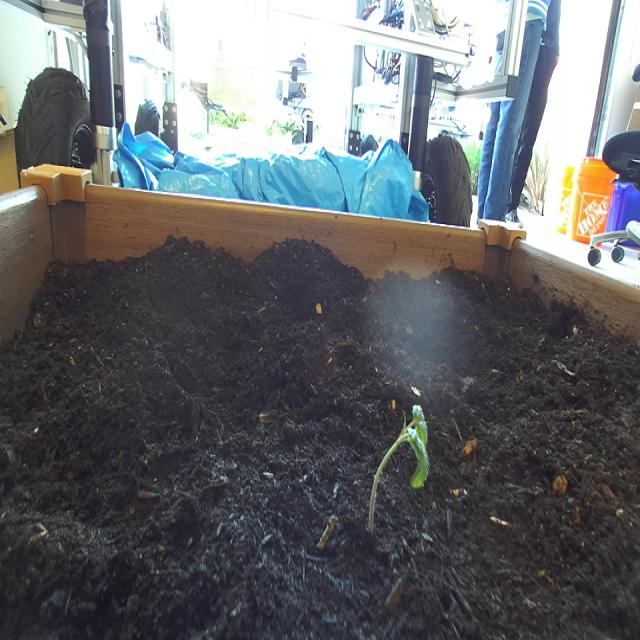Healthy: (366, 400, 434, 548)
